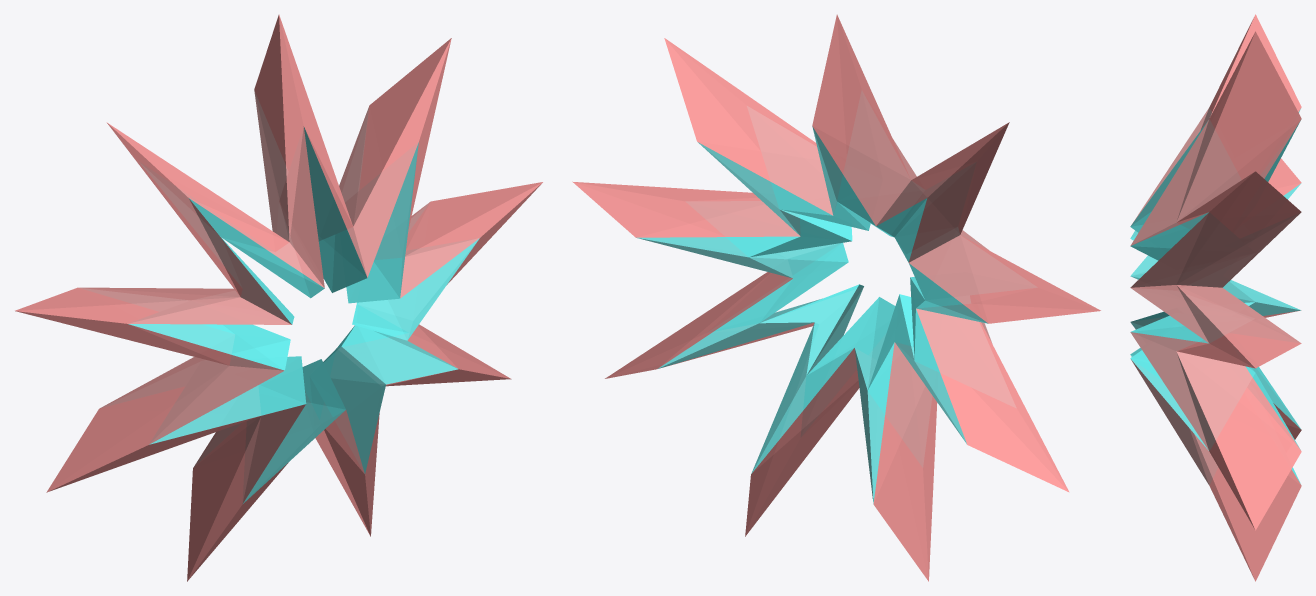
File: Regular9TetragonalStarToroid1.obj
The picture shows the model from 3 angles, left to right: view 1: azimuth 30°, elevation 25°; view 2: azimuth 150°, elevation 25°; view 3: azimuth 270°, elevation 25°; orthographic projection. The views are drawn at different scales.
Bounding box in the file's own units: 4.32 × 4.25 × 1.3.
